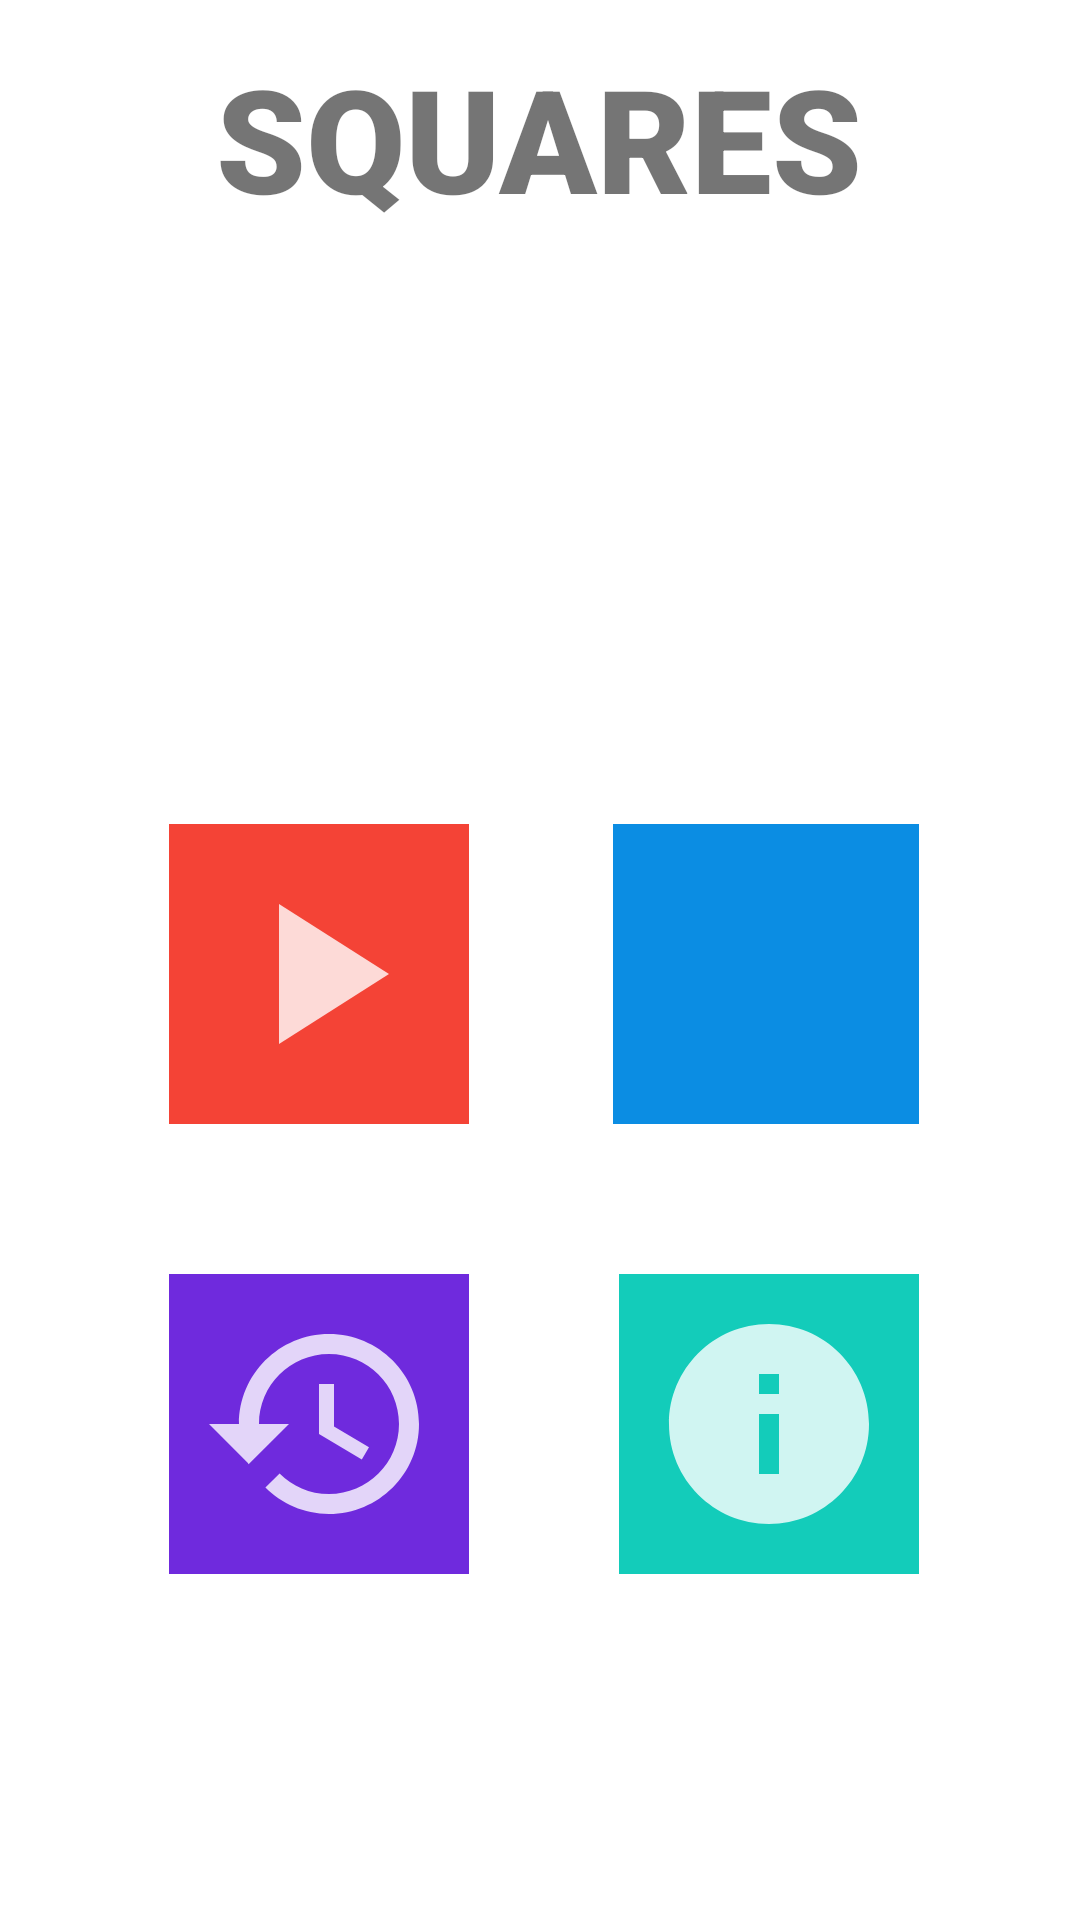

Icons on this 1080×1920 Android screen, each with its box as [x1,y1,x2,y2]:
history: [169,1274,469,1574]
info: [619,1274,919,1574]
play: [169,824,469,1124]
